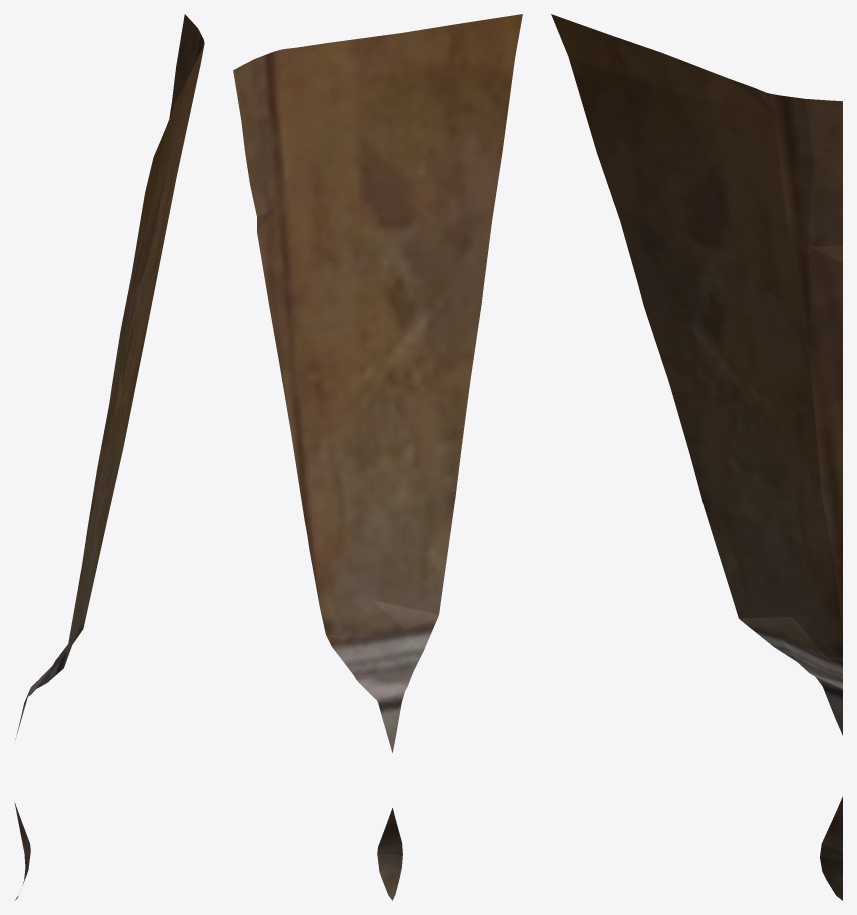
3 renders of one model, left to right at view 1: azimuth 30°, elevation 25°; view 2: azimuth 150°, elevation 25°; view 3: azimuth 270°, elevation 25°, orthographic. The views are drawn at different scales.
Size of the model in its own units: 0.1655 by 0.7844 by 0.234.
1 material, 1 textured.
